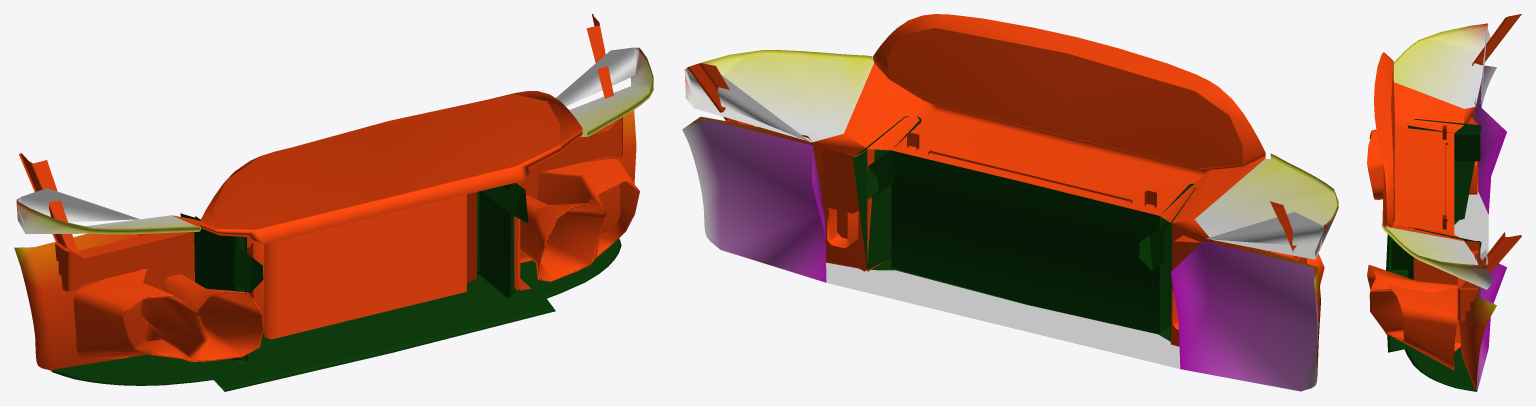
Rendered from Car_Mini_CountrymanJCW_2017_BumperChassisF_SetC_AltA.fbx.
The picture shows the model from 3 angles, left to right: view 1: azimuth 30°, elevation 25°; view 2: azimuth 150°, elevation 25°; view 3: azimuth 270°, elevation 25°; orthographic projection. The views are drawn at different scales.
Visible parts, largest first — view 1: BumperChassisF 6; view 2: BumperChassisF 6; view 3: BumperChassisF 6.
Part boxes in pixels (x1=…): BumperChassisF 6: x1=14, y1=14, x2=653, y2=391; BumperChassisF 6: x1=682, y1=14, x2=1338, y2=391; BumperChassisF 6: x1=1367, y1=14, x2=1521, y2=391.
Bounding box in the file's own units: 1.74 × 0.631 × 0.4716.
